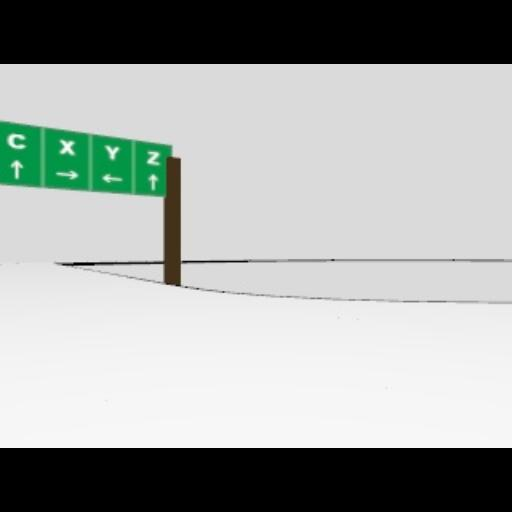C: (5, 131, 29, 151)
Left: (102, 172, 124, 184)
Right: (54, 168, 80, 182)
Straight: (9, 158, 25, 182), (147, 173, 159, 191)
X: (58, 137, 76, 157)
Y: (103, 144, 121, 162)
Z: (146, 149, 162, 167)
